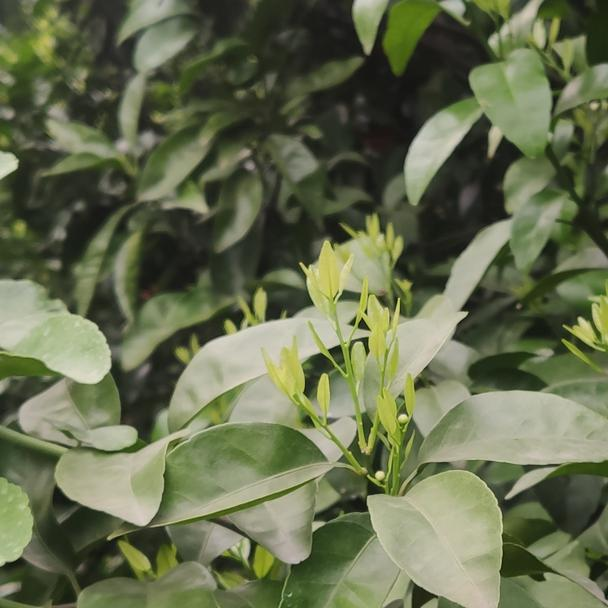shoot: (303, 256, 381, 389), (262, 338, 332, 442), (357, 300, 415, 389)
